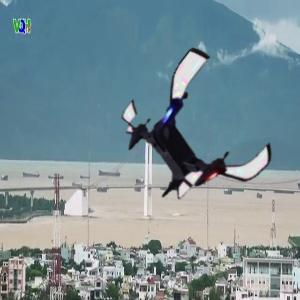drone: (121, 59, 277, 215)
